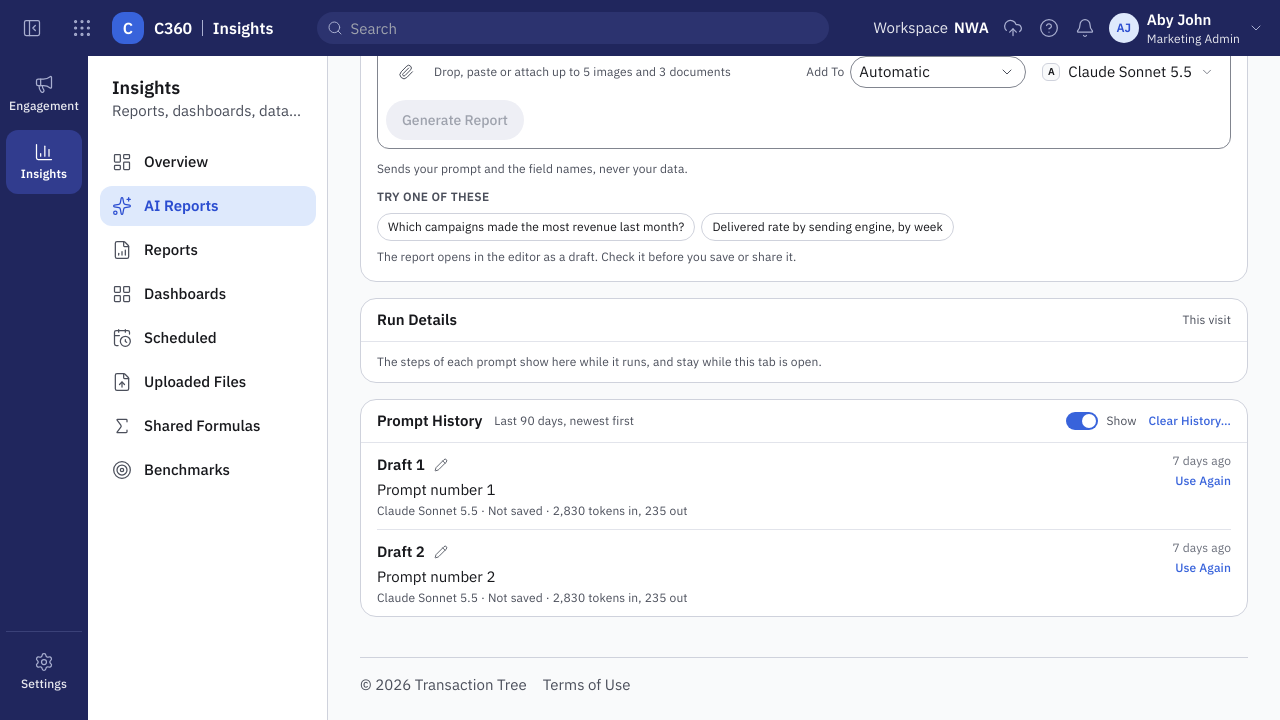
Scenario: Clear History asks first, then empties the list
This screenshot has width=1280, height=720.
(page scrolled)
Expected: the list named "Your prompts" is shown, [361,443,1247,616]
Click the button "Clear History…".
click(1190, 421)  # box [1149,413,1231,429]
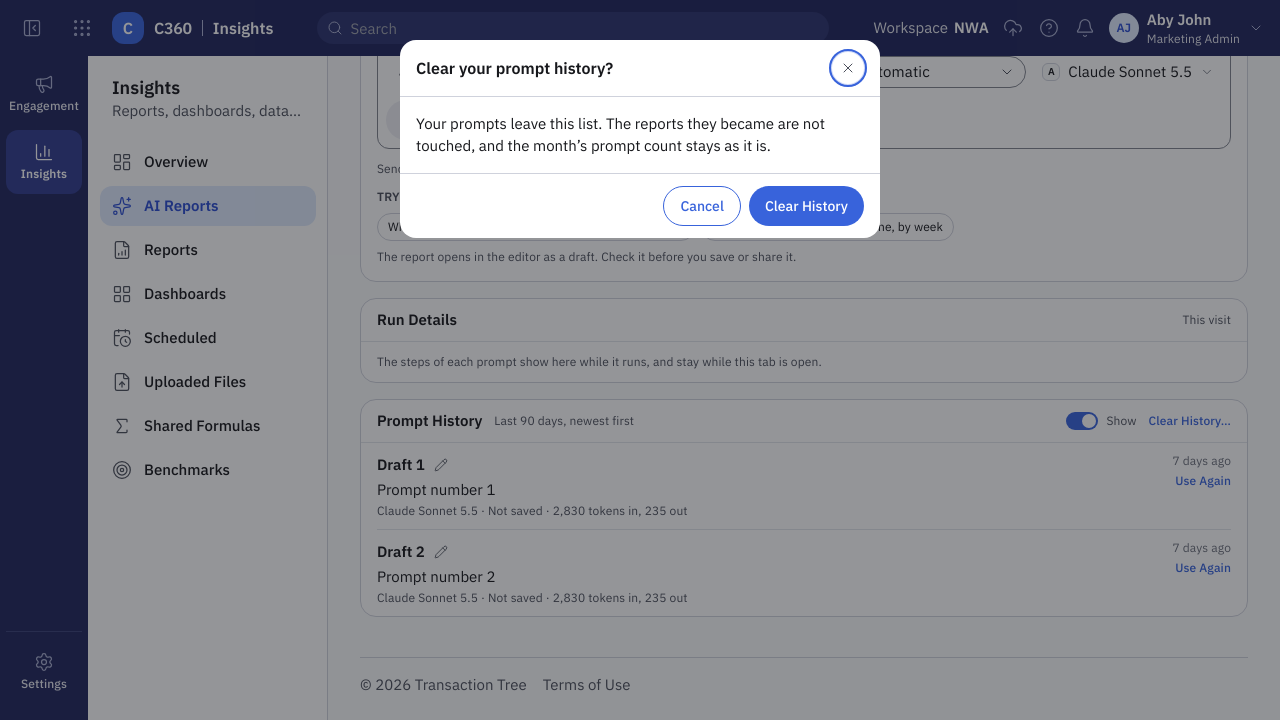
Expected: the text "the month’s prompt count stays as it is" is shown, [416,114,825,155]
Click the button "Clear History".
click(806, 206)  # box [749,186,864,226]
(page scrolled)
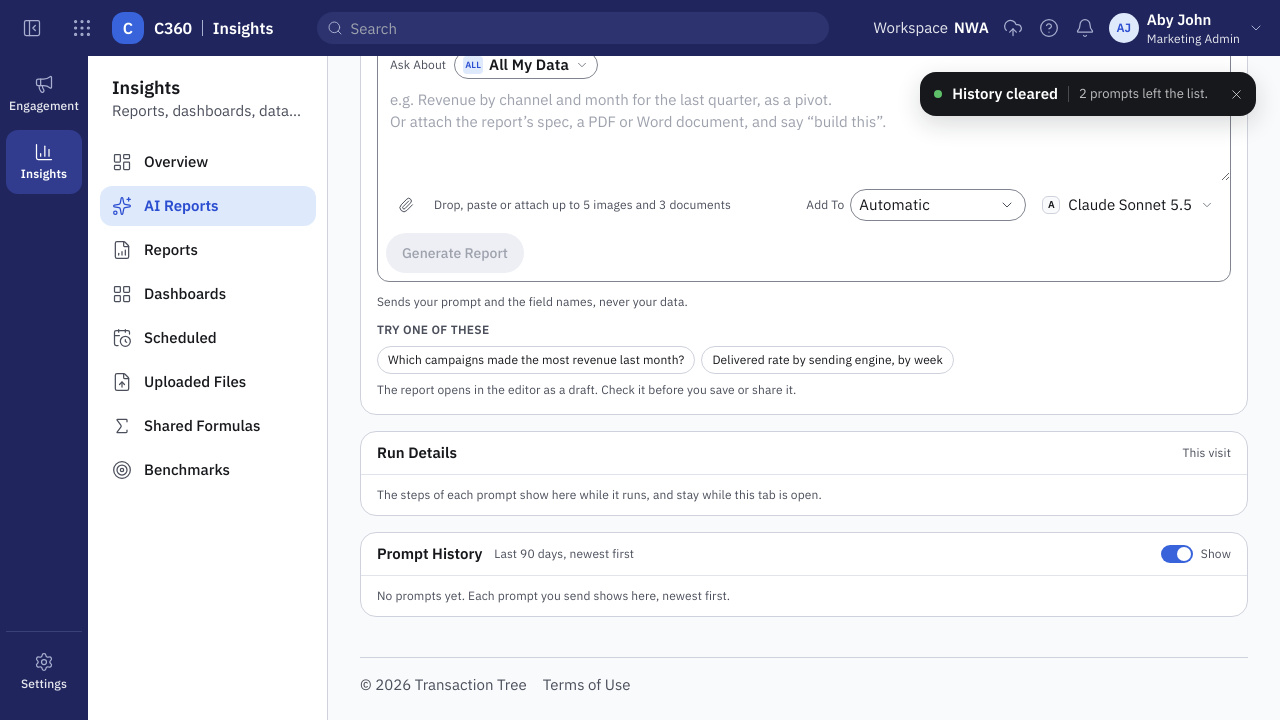
Expected: the text "No prompts yet" is shown, [377,588,730,603]
